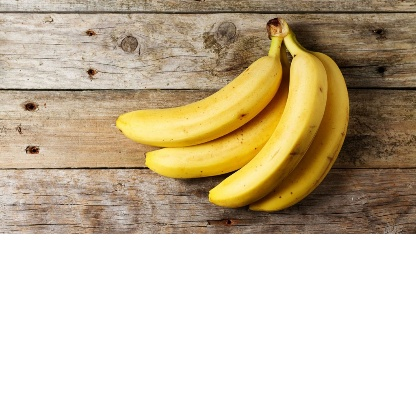chuoi: (117, 13, 358, 220)
